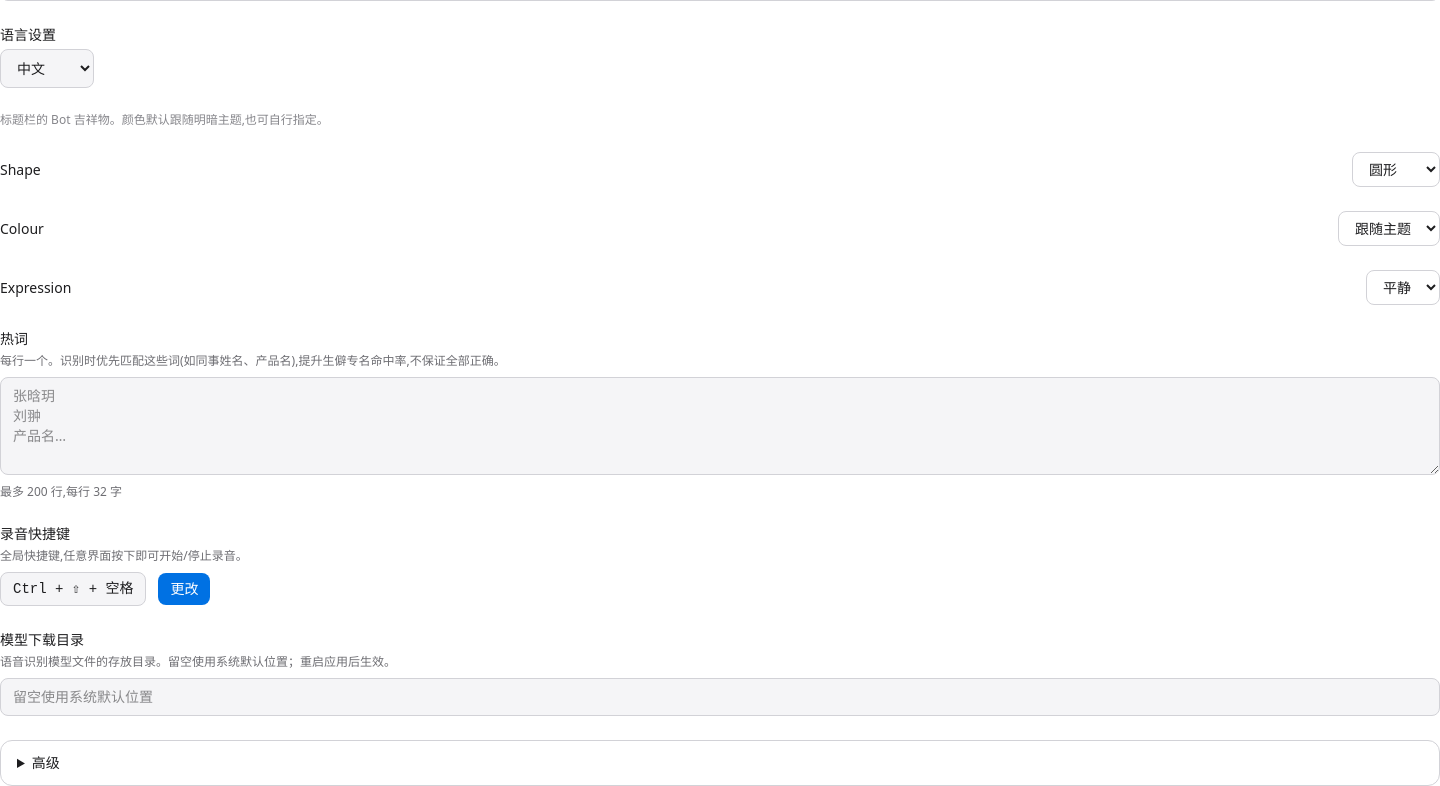
Test: [20260816_Test_GeneralSection] GeneralSection › cancels the hotkey capture when the cancel button is clicked
The width and height of the screenshot is (1440, 786).
(page scrolled)
Click the button with test id "hotkey-record".
click(184, 589)  # box [158,573,210,605]
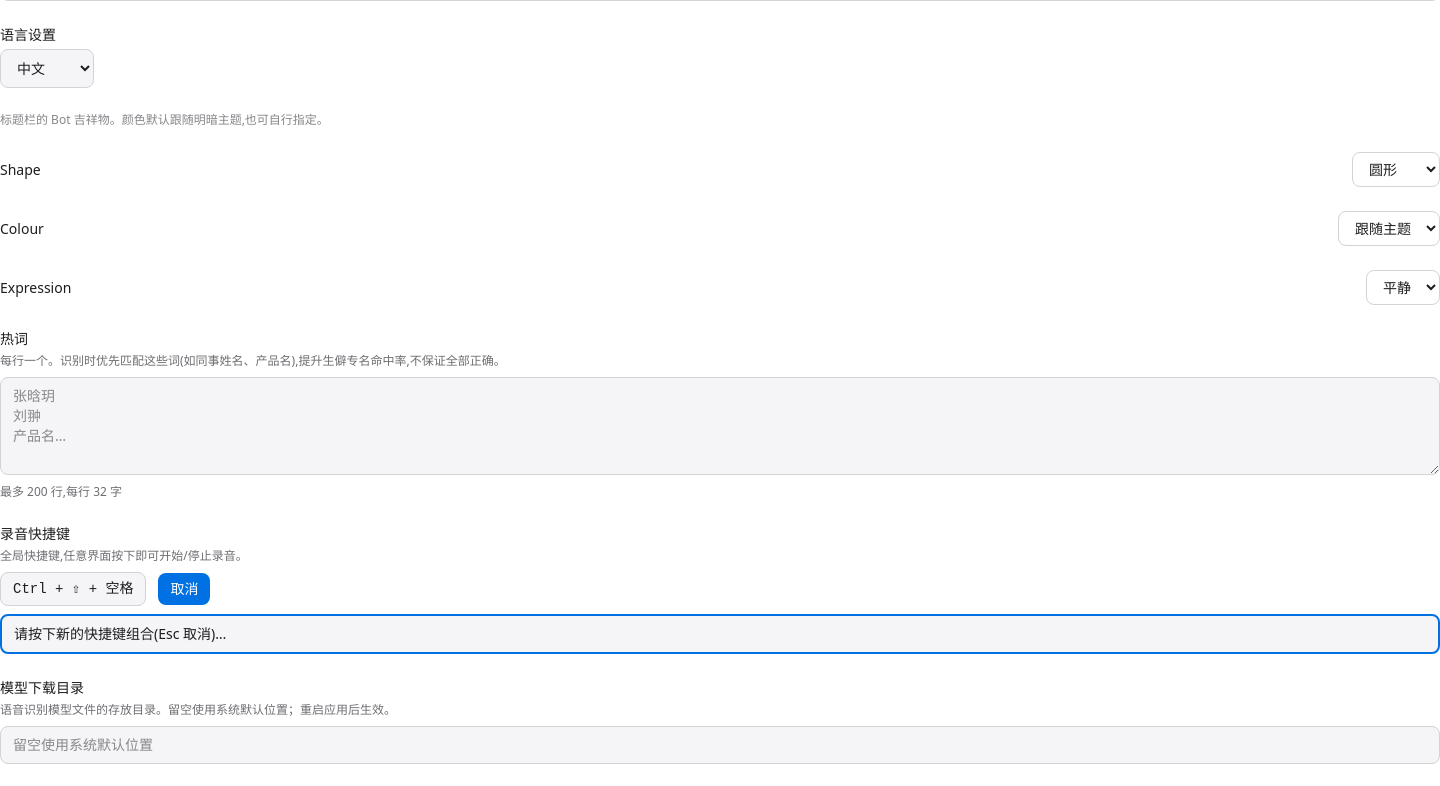
Expected: the text "请按下新的快捷键组合(Esc 取消)…" is shown, [0,614,1439,654]
Click the button with test id "hotkey-record".
click(184, 589)  # box [158,573,210,605]
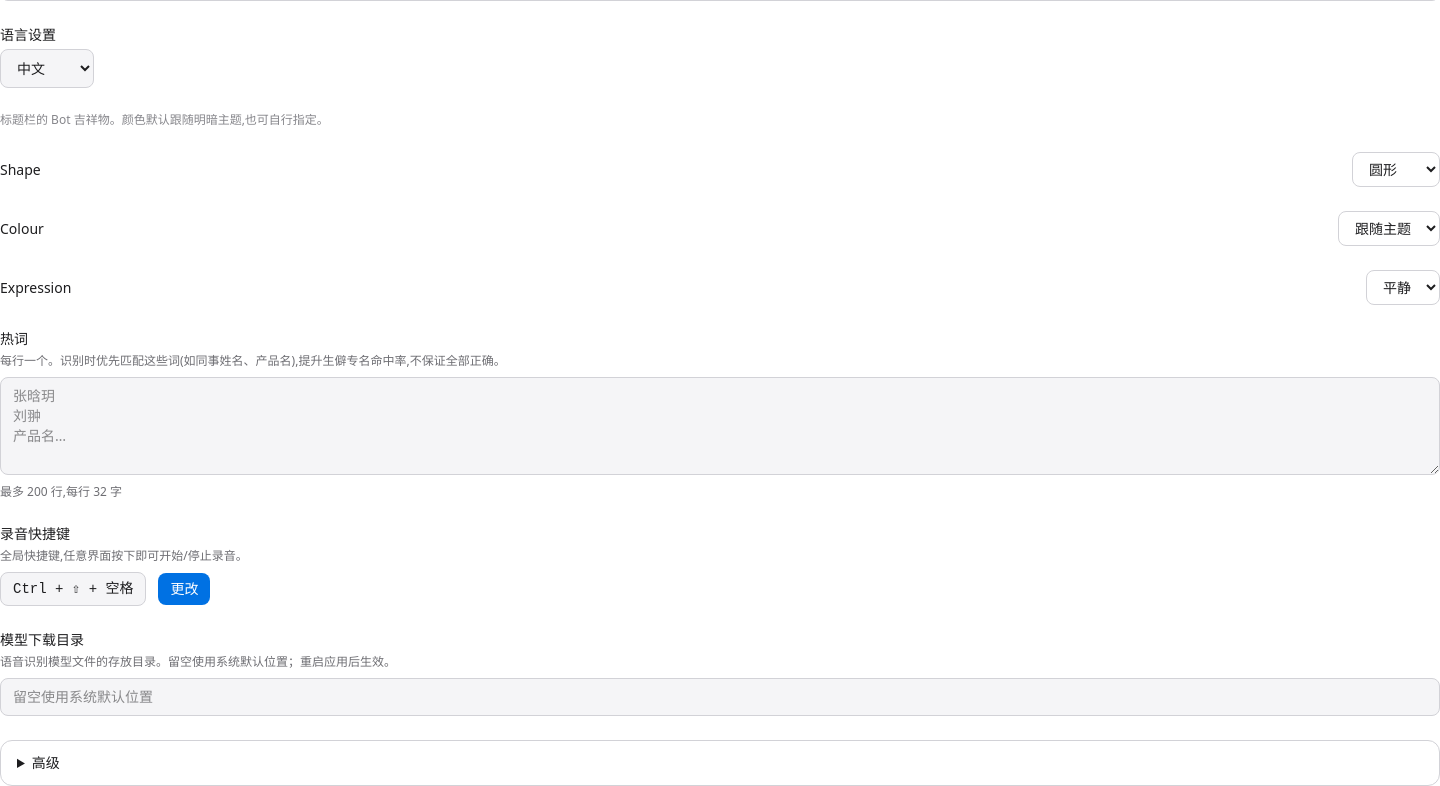
Expected: the text with test id "hotkey-capture" is gone
Expected: the button with test id "hotkey-record" reads "更改", [158,573,210,605]
